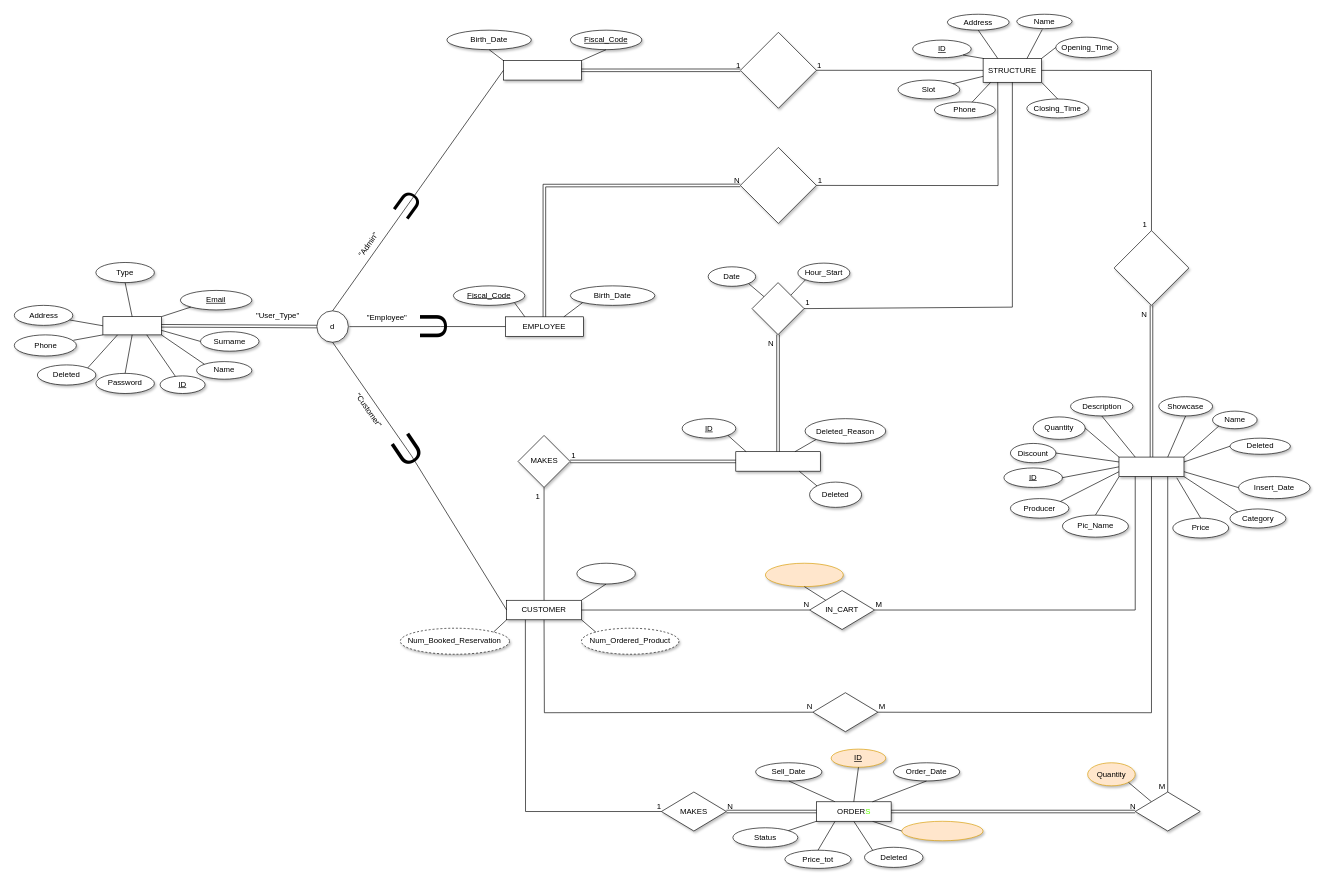
The diagram is 1325 pixels wide and 885 high, and some of its shapes have lost their labels. Here are the shapes that lost their labels. From the top down, the centre of each, then its label:
pixel 542 71: ADMIN
pixel 778 71: ADMINISTERS
pixel 778 186: WORK_FOR
pixel 1152 268: SELL
pixel 132 326: USER
pixel 778 309: SUPPLY
pixel 778 462: BOOKING
pixel 1152 467: PRODUCT
pixel 606 574: Blocked
pixel 804 575: Desired_Quantity
pixel 846 712: IN_WISHLIST
pixel 942 831: Shipping_Address
pixel 1168 812: COMPOSED
